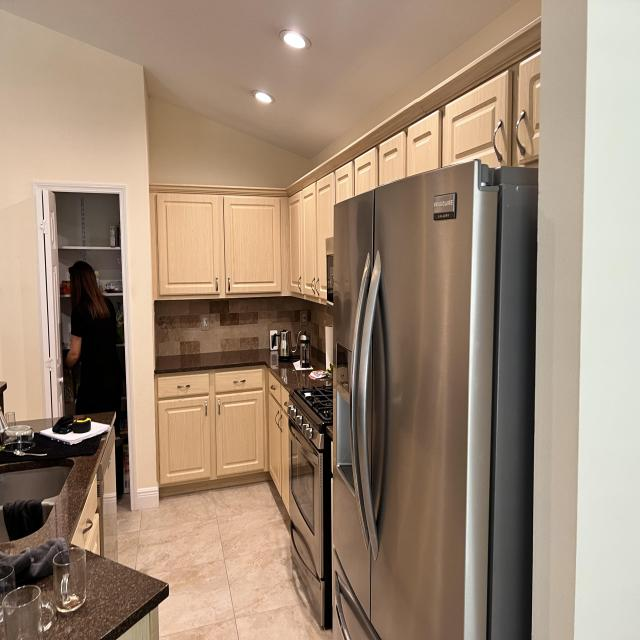Appliance_Fridge: (333, 162, 538, 640)
Appliance_Oven: (288, 388, 333, 631)
Appliance_Sink: (0, 459, 74, 507)
Cabinet_Flat: (71, 474, 98, 550), (159, 374, 209, 398), (216, 370, 263, 393), (270, 375, 289, 407)
Cabinet_Raised_Panel: (156, 50, 542, 303), (160, 390, 289, 512)
Countertop_Granite: (37, 551, 169, 640), (156, 350, 312, 388), (61, 438, 105, 551)
